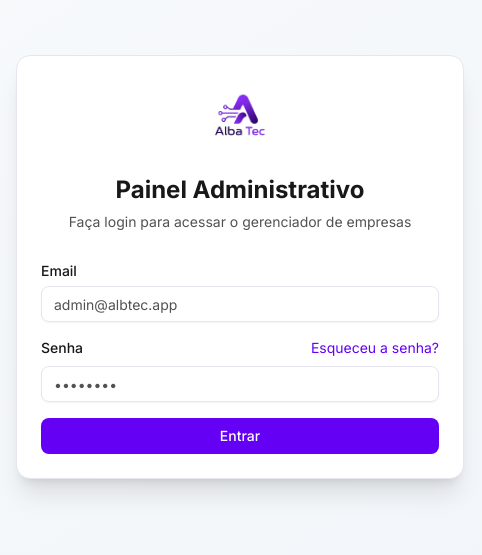
Admin Login Page › should show error message on invalid credentials
The width and height of the screenshot is (482, 555).
Type "wrong@test.com" into the field labelled "Email" at point(240, 304), box [41,286,439,322]
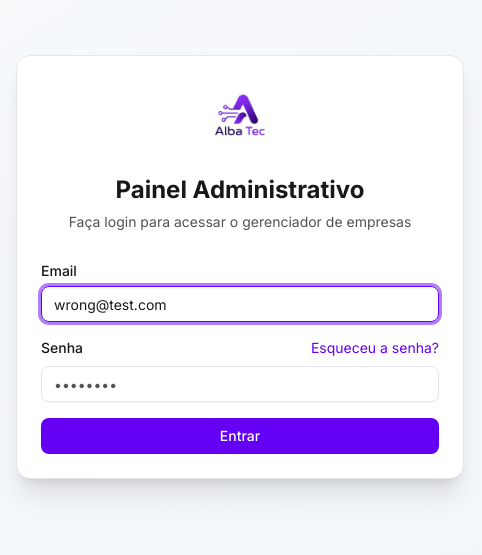
Type "wrongpass" into the password field labelled "Senha" at point(240, 384), box [41,366,439,402]
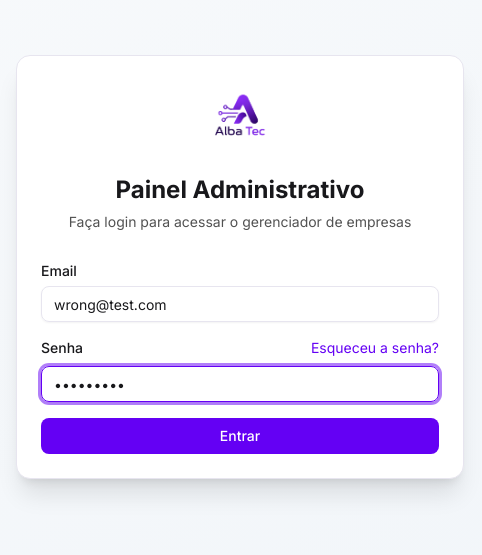
Click the button "Entrar" at point(240, 436), box [41,418,439,454]
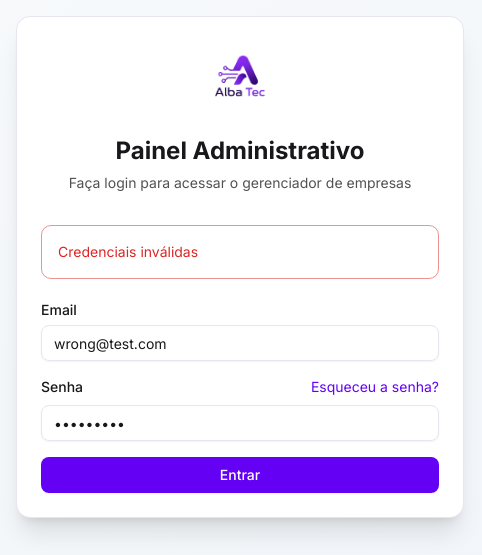
Expected: the text "Credenciais inválidas" is shown, [58,243,198,260]
